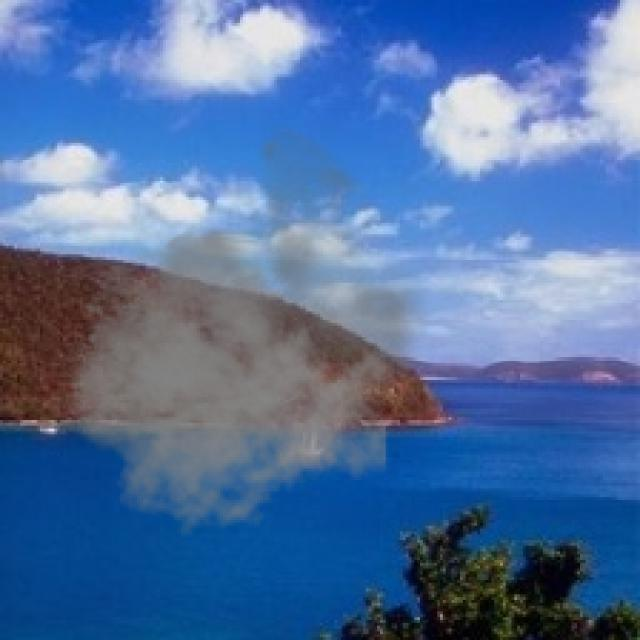Smoke: (42, 120, 434, 537)
